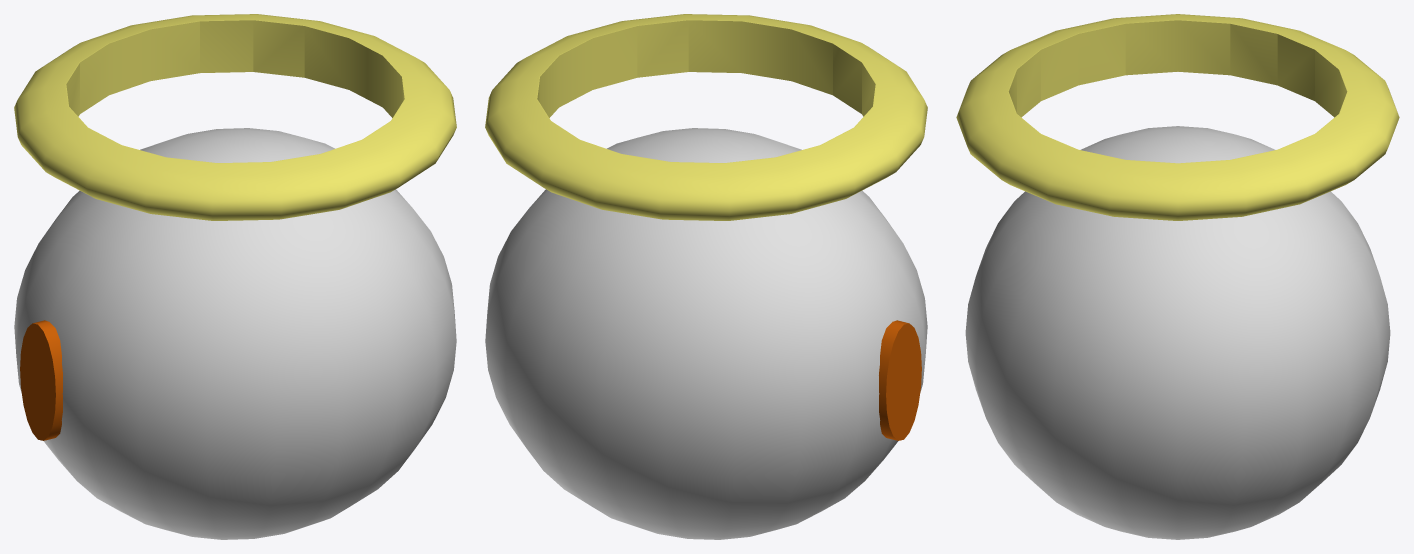
File: Enemy.fbx
The picture shows the model from 3 angles, left to right: view 1: azimuth 30°, elevation 25°; view 2: azimuth 150°, elevation 25°; view 3: azimuth 270°, elevation 25°; orthographic projection.
Parts seen in each view (by area): view 1: polySurface2; view 2: polySurface2; view 3: polySurface2.
Part boxes in pixels (x1=…): polySurface2: x1=14, y1=14, x2=456, y2=539; polySurface2: x1=485, y1=14, x2=927, y2=539; polySurface2: x1=956, y1=14, x2=1399, y2=539.
Bounding box in the file's own units: 7.15 × 7.42 × 7.01.
